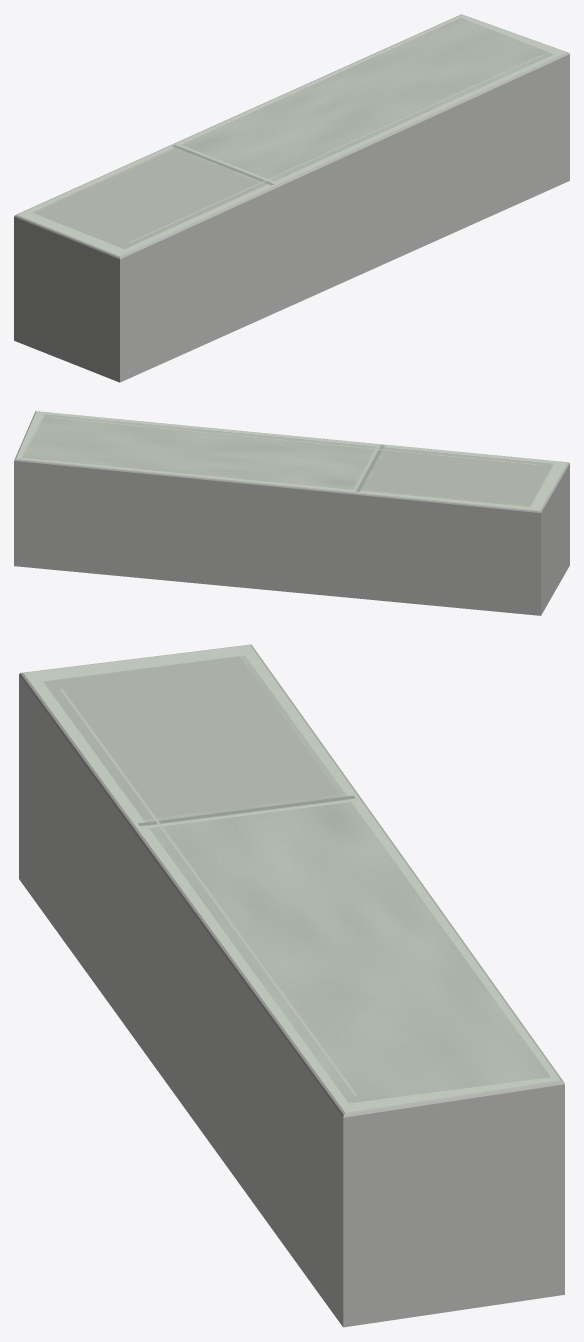
The model's file is fragments.glb.
3 views of the same model, one above another, from view 1: azimuth 30°, elevation 25°; view 2: azimuth 150°, elevation 25°; view 3: azimuth 270°, elevation 25° (orthographic). The views are drawn at different scales.
Parts seen in each view (by area): view 1: SM_gh2_Fragment_030, SM_gh2_Fragment_028, SM_gh2_Fragment_007, SM_gh2_Fragment_001, SM_gh2_Fragment_009, SM_gh2_Fragment_041, SM_gh2_Fragment_055, SM_gh2_Fragment_020, SM_gh2_Fragment_042, SM_gh2_Fragment_011, SM_gh2_Fragment_023, SM_gh2_Fragment_019 (+27 smaller); view 2: SM_gh2_Fragment_008, SM_gh2_Fragment_002, SM_gh2_Fragment_026, SM_gh2_Fragment_039, SM_gh2_Fragment_014, SM_gh2_Fragment_025, SM_gh2_Fragment_051, SM_gh2_Fragment_036, SM_gh2_Fragment_016, SM_gh2_Fragment_010, SM_gh2_Fragment_020, SM_gh2_Fragment_024 (+29 smaller); view 3: SM_gh2_Fragment_040, SM_gh2_Fragment_014, SM_gh2_Fragment_011, SM_gh2_Fragment_020, SM_gh2_Fragment_023, SM_gh2_Fragment_037, SM_gh2_Fragment_026, SM_gh2_Fragment_028, SM_gh2_Fragment_000, SM_gh2_Fragment_007, SM_gh2_Fragment_003, SM_gh2_Fragment_046 (+28 smaller).
Part boxes in pixels (x1=…): SM_gh2_Fragment_030: x1=74, y1=240, x2=158, y2=342; SM_gh2_Fragment_028: x1=234, y1=164, x2=318, y2=261; SM_gh2_Fragment_007: x1=138, y1=206, x2=220, y2=294; SM_gh2_Fragment_001: x1=14, y1=257, x2=89, y2=364; SM_gh2_Fragment_009: x1=298, y1=147, x2=363, y2=259; SM_gh2_Fragment_041: x1=331, y1=139, x2=412, y2=237; SM_gh2_Fragment_055: x1=33, y1=218, x2=140, y2=288; SM_gh2_Fragment_020: x1=205, y1=122, x2=330, y2=169; SM_gh2_Fragment_042: x1=398, y1=150, x2=464, y2=247; SM_gh2_Fragment_011: x1=495, y1=35, x2=569, y2=117; SM_gh2_Fragment_023: x1=317, y1=96, x2=419, y2=166; SM_gh2_Fragment_019: x1=477, y1=104, x2=540, y2=184; SM_gh2_Fragment_008: x1=50, y1=452, x2=139, y2=541; SM_gh2_Fragment_002: x1=214, y1=457, x2=287, y2=547; SM_gh2_Fragment_026: x1=126, y1=445, x2=219, y2=523; SM_gh2_Fragment_039: x1=275, y1=480, x2=346, y2=554; SM_gh2_Fragment_014: x1=14, y1=433, x2=92, y2=512; SM_gh2_Fragment_025: x1=346, y1=506, x2=411, y2=571; SM_gh2_Fragment_051: x1=292, y1=536, x2=367, y2=597; SM_gh2_Fragment_036: x1=166, y1=472, x2=240, y2=550; SM_gh2_Fragment_016: x1=409, y1=508, x2=466, y2=576; SM_gh2_Fragment_010: x1=480, y1=487, x2=546, y2=548; SM_gh2_Fragment_020: x1=277, y1=441, x2=371, y2=483; SM_gh2_Fragment_024: x1=14, y1=520, x2=80, y2=572; SM_gh2_Fragment_040: x1=407, y1=1117, x2=564, y2=1278; SM_gh2_Fragment_014: x1=428, y1=1024, x2=564, y2=1169; SM_gh2_Fragment_011: x1=302, y1=1057, x2=446, y2=1171; SM_gh2_Fragment_020: x1=173, y1=814, x2=374, y2=890; SM_gh2_Fragment_023: x1=207, y1=898, x2=373, y2=1029; SM_gh2_Fragment_037: x1=321, y1=1164, x2=414, y2=1293; SM_gh2_Fragment_026: x1=344, y1=922, x2=497, y2=1004; SM_gh2_Fragment_028: x1=110, y1=803, x2=220, y2=972; SM_gh2_Fragment_000: x1=324, y1=1243, x2=488, y2=1327; SM_gh2_Fragment_007: x1=40, y1=698, x2=143, y2=873; SM_gh2_Fragment_003: x1=213, y1=746, x2=363, y2=815; SM_gh2_Fragment_046: x1=89, y1=751, x2=214, y2=866.
Size of the model in its own units: 2.2 by 0.4647 by 1.08.
Materials: 4 (1 with a texture image).
